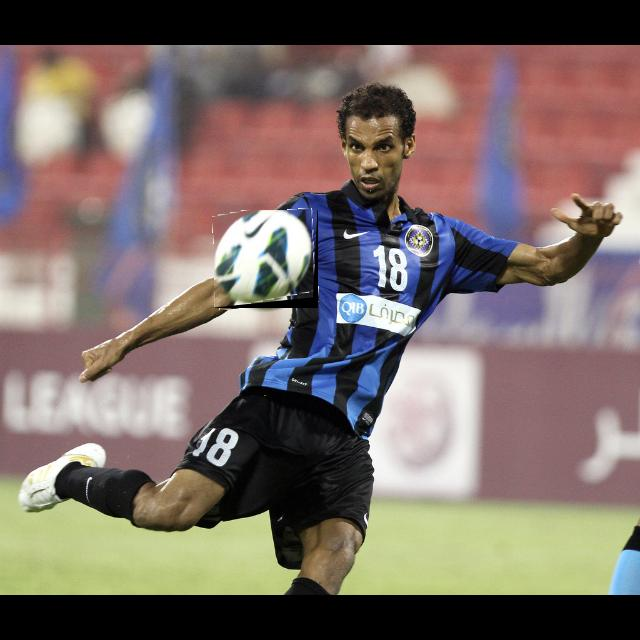Football: (214, 210, 318, 308)
